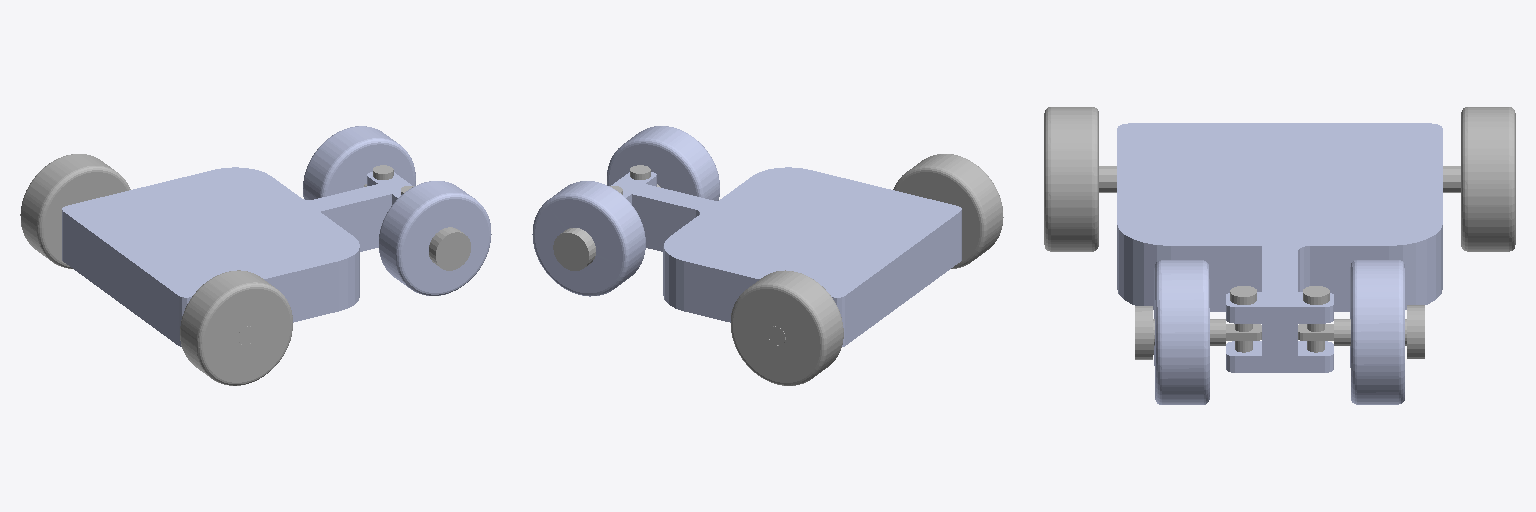
URDF robot description (rat_bot):
<?xml version="1.0" encoding="utf-8"?>
<!-- =================================================================================== -->
<!-- |    This document was autogenerated by xacro from my_robot_integration.urdf.xacro | -->
<!-- |    EDITING THIS FILE BY HAND IS NOT RECOMMENDED                                 | -->
<!-- =================================================================================== -->
<!-- Name your robot here -->
<robot name="rat_bot">
  <link name="dummy_link">
  </link>
  <joint name="dummy_joint" type="fixed">
    <parent link="dummy_link"/>
    <child link="chassis"/>
  </joint>
  <link name="chassis">
    <inertial>
      <origin rpy="0 0 0" xyz="0.000215667966675326 3.22622240976468E-07 -0.0508"/>
      <mass value="19.3499528131755"/>
      <inertia ixx="0.325740839915859" ixy="-3.19805521505135E-05" ixz="4.09795776681259E-18" iyy="0.381046698471184" iyz="-2.0186546107189E-18" izz="0.672432362659258"/>
    </inertial>
    <visual>
      <origin rpy="0 0 0" xyz="0 0 0"/>
      <geometry>
        <mesh filename="package://rat_bot/meshes/chassis.STL"/>
      </geometry>
      <material name="">
        <color rgba="0.792156862745098 0.819607843137255 0.933333333333333 1"/>
      </material>
    </visual>
    <collision>
      <origin rpy="0 0 0" xyz="0 0 0"/>
      <geometry>
        <mesh filename="package://rat_bot/meshes/chassis.STL"/>
      </geometry>
    </collision>
  </link>
  <link name="rear_axle">
    <inertial>
      <origin rpy="0 0 0" xyz="0 0.3302 3.54973767868205E-18"/>
      <mass value="5.47892692412034"/>
      <inertia ixx="0.0422116754174596" ixy="1.54158479016256E-19" ixz="-5.33756964679349E-19" iyy="0.0251915820814547" iyz="-3.42745878554697E-20" izz="0.0422116754174596"/>
    </inertial>
    <visual>
      <origin rpy="0 0 0" xyz="0 0 0"/>
      <geometry>
        <mesh filename="package://rat_bot/meshes/rear_axle.STL"/>
      </geometry>
      <material name="">
        <color rgba="0.752941176470588 0.752941176470588 0.752941176470588 1"/>
      </material>
    </visual>
    <collision>
      <origin rpy="0 0 0" xyz="0 0 0"/>
      <geometry>
        <mesh filename="package://rat_bot/meshes/rear_axle.STL"/>
      </geometry>
    </collision>
  </link>
  <joint name="rear_axle_continuous" type="continuous">
    <origin rpy="0 0 0" xyz="-0.14848598412278 -0.330208611508917 -0.0508"/>
    <parent link="chassis"/>
    <child link="rear_axle"/>
    <axis xyz="0 -1 0"/>
  </joint>
  <link name="front_right_axle">
    <inertial>
      <origin rpy="0 0 0" xyz="0.00107004546547312 -0.0805167898427103 -0.060836167708994"/>
      <mass value="0.310636803973422"/>
      <inertia ixx="0.000623132949903208" ixy="5.73940351430201E-06" ixz="3.20864102320735E-20" iyy="0.000191341270284429" iyz="-1.86471644842778E-19" izz="0.000546254978933711"/>
    </inertial>
    <visual>
      <origin rpy="0 0 0" xyz="0 0 0"/>
      <geometry>
        <mesh filename="package://rat_bot/meshes/front_right_axle.STL"/>
      </geometry>
      <material name="">
        <color rgba="0.752941176470588 0.752941176470588 0.752941176470588 1"/>
      </material>
    </visual>
    <collision>
      <origin rpy="0 0 0" xyz="0 0 0"/>
      <geometry>
        <mesh filename="package://rat_bot/meshes/front_right_axle.STL"/>
      </geometry>
    </collision>
  </link>
  <joint name="front_right_axle_revolute" type="revolute">
    <origin rpy="0 0 0" xyz="0.35951 -0.050809 0.0127"/>
    <parent link="chassis"/>
    <child link="front_right_axle"/>
    <axis xyz="0 0 -1"/>
    <limit effort="100" lower="-0.5" upper="0.5" velocity="10"/>
  </joint>
  <link name="front_right_wheel">
    <inertial>
      <origin rpy="0 0 0" xyz="-0.000506293564028357 0.0380966358990794 2.42680039592254E-17"/>
      <mass value="2.36300514046469"/>
      <inertia ixx="0.00739058429423119" ixy="-6.82679268466141E-05" ixz="-2.19875424938179E-19" iyy="0.0125265749461757" iyz="3.23794524781728E-18" izz="0.00738967703270596"/>
    </inertial>
    <visual>
      <origin rpy="0 0 0" xyz="0 0 0"/>
      <geometry>
        <mesh filename="package://rat_bot/meshes/front_right_wheel.STL"/>
      </geometry>
      <material name="">
        <color rgba="0.792156862745098 0.819607843137255 0.933333333333333 1"/>
      </material>
    </visual>
    <collision>
      <origin rpy="0 0 0" xyz="0 0 0"/>
      <geometry>
        <mesh filename="package://rat_bot/meshes/front_right_wheel.STL"/>
      </geometry>
    </collision>
  </link>
  <joint name="front_right_wheel_continuous" type="continuous">
    <origin rpy="0 0 0" xyz="0.00165389230915937 -0.124449010603659 -0.0635000000000001"/>
    <parent link="front_right_axle"/>
    <child link="front_right_wheel"/>
    <axis xyz="0.0132885449876211 -0.99991170338791 0"/>
  </joint>
  <link name="front_left_axle">
    <inertial>
      <origin rpy="0 0 0" xyz="-0.000356993729427948 0.0805231084804262 -0.0608361677089941"/>
      <mass value="0.310636803973422"/>
      <inertia ixx="0.000623200735124786" ixy="1.91495775025319E-06" ixz="3.8890560499949E-20" iyy="0.000191273485062851" iyz="3.27002484028911E-19" izz="0.000546254978933712"/>
    </inertial>
    <visual>
      <origin rpy="0 0 0" xyz="0 0 0"/>
      <geometry>
        <mesh filename="package://rat_bot/meshes/front_left_axle.STL"/>
      </geometry>
      <material name="">
        <color rgba="0.752941176470588 0.752941176470588 0.752941176470588 1"/>
      </material>
    </visual>
    <collision>
      <origin rpy="0 0 0" xyz="0 0 0"/>
      <geometry>
        <mesh filename="package://rat_bot/meshes/front_left_axle.STL"/>
      </geometry>
    </collision>
  </link>
  <joint name="front_left_axle_revolute" type="revolute">
    <origin rpy="0 0 0" xyz="0.35951 0.050791 0.0127"/>
    <parent link="chassis"/>
    <child link="front_left_axle"/>
    <axis xyz="0 0 -1"/>
    <limit effort="100" lower="-0.5" upper="0.5" velocity="10"/>
  </joint>
  <link name="front_left_wheel">
    <inertial>
      <origin rpy="0 0 0" xyz="0.000168912100877855 -0.0380996255716795 3.65928631643131E-17"/>
      <mass value="2.36300514046469"/>
      <inertia ixx="0.00738977801592431" ixy="-2.27776623969502E-05" ixz="-3.18492963814954E-23" iyy="0.0125273812244826" iyz="-4.98526057575346E-18" izz="0.00738967703270596"/>
    </inertial>
    <visual>
      <origin rpy="0 0 0" xyz="0 0 0"/>
      <geometry>
        <mesh filename="package://rat_bot/meshes/front_left_wheel.STL"/>
      </geometry>
      <material name="">
        <color rgba="0.792156862745098 0.819607843137255 0.933333333333333 1"/>
      </material>
    </visual>
    <collision>
      <origin rpy="0 0 0" xyz="0 0 0"/>
      <geometry>
        <mesh filename="package://rat_bot/meshes/front_left_wheel.STL"/>
      </geometry>
    </collision>
  </link>
  <joint name="front_left_wheel_continuous" type="continuous">
    <origin rpy="0 0 0" xyz="-0.000551779529534266 0.124458776867486 -0.0635000000000001"/>
    <parent link="front_left_axle"/>
    <child link="front_left_wheel"/>
    <axis xyz="-0.00443338847448438 0.999990172485027 0"/>
  </joint>
  <transmission name="rear_axle_continuous_trans_block">
    <type>transmission_interface/SimpleTransmission</type>
    <joint name="rear_axle_continuous">
      <hardwareInterface>VelocityJointInterface</hardwareInterface>
    </joint>
    <actuator name="rear_axle_continuous_motor">
      <mechanicalReduction>1</mechanicalReduction>
      <hardwareInterface>VelocityJointInterface</hardwareInterface>
    </actuator>
  </transmission>
  <transmission name="front_right_axle_revolute_trans_block">
    <type>transmission_interface/SimpleTransmission</type>
    <joint name="front_right_axle_revolute">
      <hardwareInterface>EffortJointInterface</hardwareInterface>
    </joint>
    <actuator name="front_right_axle_revolute_motor">
      <mechanicalReduction>1</mechanicalReduction>
      <hardwareInterface>EffortJointInterface</hardwareInterface>
    </actuator>
  </transmission>
  <transmission name="front_left_axle_revolute_trans_block">
    <type>transmission_interface/SimpleTransmission</type>
    <joint name="front_left_axle_revolute">
      <hardwareInterface>EffortJointInterface</hardwareInterface>
    </joint>
    <actuator name="front_left_axle_revolute_motor">
      <mechanicalReduction>1</mechanicalReduction>
      <hardwareInterface>EffortJointInterface</hardwareInterface>
    </actuator>
  </transmission>
  <link name="base_laser">
    <inertial>
      <origin rpy="0 0 0" xyz="-0.00029774 0.0066667 0.00013047"/>
      <mass value="0.15717"/>
      <inertia ixx="6.7885E-05" ixy="-1.3987E-07" ixz="-8.1554E-07" iyy="0.00013173" iyz="-9.0932E-08" izz="7.1972E-05"/>
    </inertial>
    <visual>
      <origin rpy="0 0 0" xyz="0 0 0"/>
      <geometry>
        <mesh filename="[local-path]/catkin_ws/src/rat_bot/meshes/ydlidar.dae"/>
      </geometry>
      <material name="">
        <color rgba="0.64706 0.61961 0.58824 1"/>
      </material>
    </visual>
    <collision>
      <origin rpy="0 0 0" xyz="0 0 0"/>
      <geometry>
        <mesh filename="[local-path]/catkin_ws/src/rat_bot/meshes/ydlidar.dae"/>
      </geometry>
    </collision>
  </link>
  <link name="laser_frame">
    <inertial>
      <origin rpy="0 0 0" xyz="-0.00036659 0.00064155 -0.00027052"/>
      <mass value="0.25482"/>
      <inertia ixx="8.9194E-05" ixy="1.8116E-07" ixz="3.6435E-08" iyy="0.00018279" iyz="2.423E-07" izz="0.00011103"/>
    </inertial>
    <!--visual>
      <origin
        xyz="0 0 0"
        rpy="0 0 0" />
      <geometry>
        <mesh
          filename="$(find rat_bot)/meshes/ydlidar.dae" />
      </geometry>
      <material
        name="">
        <color
          rgba="0.64706 0.61961 0.58824 1" />
      </material>
    </visual-->
    <!--collision>
      <origin
        xyz="0 0 0"
        rpy="0 0 0" />
      <geometry>
        <mesh
          filename="$(find rat_bot)/meshes/ydlidar.dae" />
      </geometry>
    </collision-->
  </link>
  <joint name="laser_joint" type="fixed">
    <origin rpy="0 0 0" xyz="0 0 0.03172"/>
    <parent link="base_laser"/>
    <child link="laser_frame"/>
    <axis xyz="0 0 0"/>
  </joint>
  <!-- Add your gazebo sensors here -->
  <gazebo reference="base_laser">
    <!-- <gravity>true</gravity> -->
    <!-- Gazebo has fixed set of Sensors types. Check them out here <> -->
    <sensor name="laser" type="ray">
      <!-- Add in your sensor characteristics -->
      <pose> 0 0 0 0 0 0 </pose>
      <visualise>true</visualise>
      <update_rate>40</update_rate>
      <!-- <always_on>true</always_on> -->
      <ray>
        <scan>
          <horizontal>
            <samples>720</samples>
            <resolution>1</resolution>
            <min_angle>-1.570796</min_angle>
            <max_angle>1.570796</max_angle>
          </horizontal>
        </scan>
        <range>
          <min>0.10</min>
          <max>30.0</max>
          <resolution>0.01</resolution>
        </range>
        <noise>
          <type>gaussian</type>
          <mean>0.0</mean>
          <stddev>0.01</stddev>
        </noise>
      </ray>
      <plugin filename="libgazebo_ros_laser.so" name="gazebo_ros_head_hokuyo_controller">
        <!-- Use topic name as /my_robot/scan -->
        <topicName>/rat_bot/scan</topicName>
        <frameName>laser_frame</frameName>
      </plugin>
    </sensor>
  </gazebo>
  <!--  Gazebo plugin for control here is already added for you -->
  <gazebo>
    <plugin filename="libgazebo_ros_control.so" name="gazebo_ros_control">
      <robotNamespace>/rat_bot</robotNamespace>
      <robotSimType>gazebo_ros_control/DefaultRobotHWSim</robotSimType>
      <legacyModeNS>true</legacyModeNS>
    </plugin>
  </gazebo>
  <!-- Create a joint between your robot and sensor -->
  <joint name="lidar_joint" type="fixed">
    <origin rpy="0 0 0" xyz="0 0 0"/>
    <parent link="chassis"/>
    <child link="base_laser"/>
  </joint>
</robot>

--- Render facts (derived) ---
The picture shows the robot from 3 angles, left to right: view 1: azimuth 30°, elevation 25°; view 2: azimuth 150°, elevation 25°; view 3: azimuth 270°, elevation 25°; orthographic projection.
Model rat_bot with 9 links and 8 joints (2 revolute, 3 continuous, 3 fixed), rooted at dummy_link, posed every joint at zero.
Links seen in each view (by area): view 1: chassis, rear_axle, front_right_wheel, front_left_wheel, front_right_axle; view 2: chassis, rear_axle, front_left_wheel, front_right_wheel, front_left_axle; view 3: chassis, rear_axle, front_right_wheel, front_left_wheel, front_left_axle, front_right_axle.
Link boxes in pixels (x1,y1,x2,y2): chassis: (62, 167, 411, 346); rear_axle: (20, 154, 292, 385); front_right_wheel: (379, 181, 491, 295); front_left_wheel: (303, 126, 415, 199); front_right_axle: (401, 186, 470, 270); chassis: (611, 167, 961, 346); rear_axle: (731, 154, 1003, 385); front_left_wheel: (532, 181, 645, 296); front_right_wheel: (607, 126, 719, 200); front_left_axle: (553, 186, 622, 270); chassis: (1117, 123, 1442, 372); rear_axle: (1044, 107, 1515, 251); front_right_wheel: (1154, 260, 1209, 404); front_left_wheel: (1350, 260, 1404, 404); front_left_axle: (1298, 286, 1424, 358); front_right_axle: (1135, 286, 1261, 359).
Bounding box of the posed robot: 0.7127 × 0.6604 × 0.2032 m (x, y, z).
6 mesh visuals loaded from 6 distinct referenced files (6 binary STL); not drawn: 1 (reference in a form the renderer does not follow; not among the files counted above).
